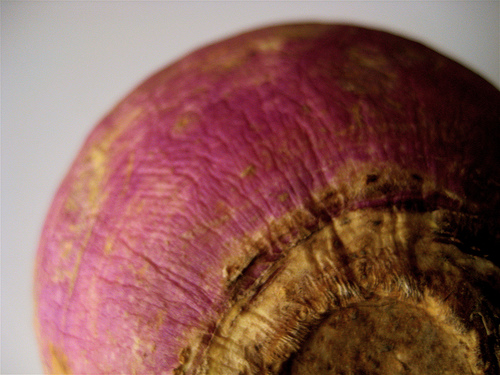turnip: (25, 13, 499, 374)
